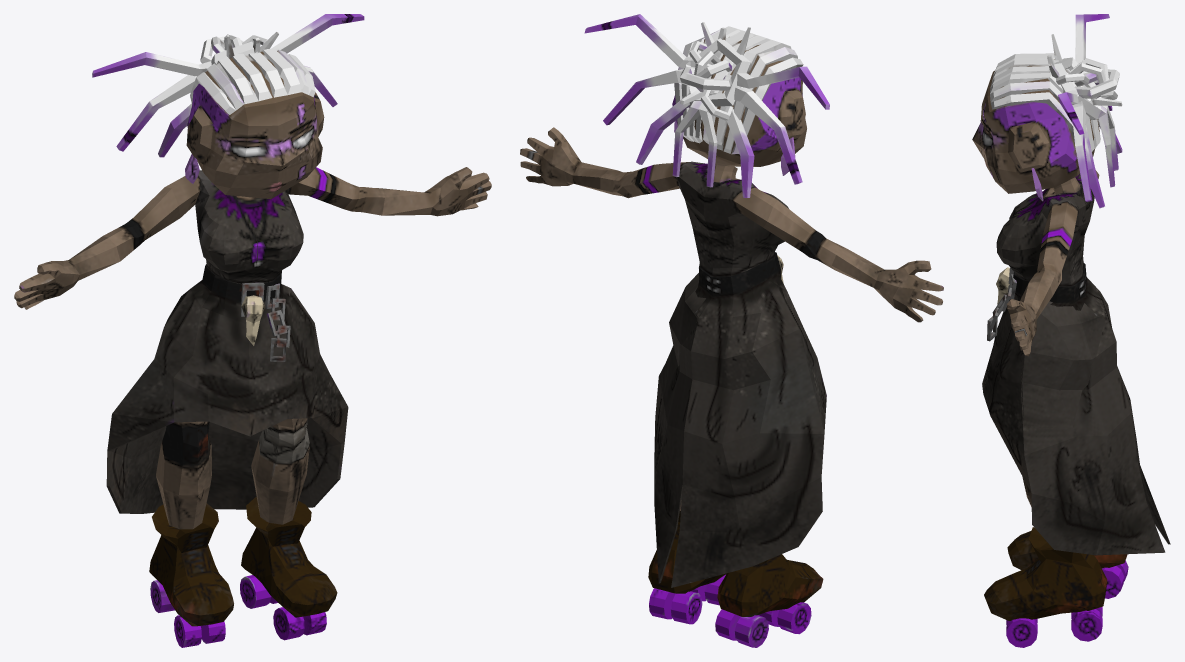
Rendered from bruja_000102.obj.
3 renders of one model, left to right at view 1: azimuth 30°, elevation 25°; view 2: azimuth 150°, elevation 25°; view 3: azimuth 270°, elevation 25°, orthographic. The views are drawn at different scales.
Parts seen in each view (by area): view 1: Bruja_Plane.001; view 2: Bruja_Plane.001; view 3: Bruja_Plane.001.
Part boxes in pixels (x1=…): Bruja_Plane.001: x1=14, y1=14, x2=491, y2=647; Bruja_Plane.001: x1=520, y1=14, x2=943, y2=647; Bruja_Plane.001: x1=972, y1=14, x2=1170, y2=647.
Size of the model in its own units: 12.96 by 16.57 by 5.15.
